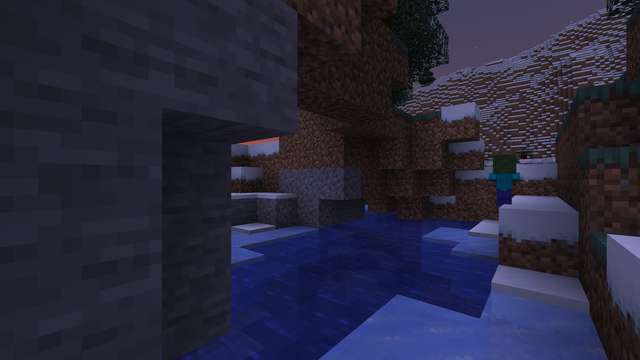zombies: (494, 162, 513, 211)
